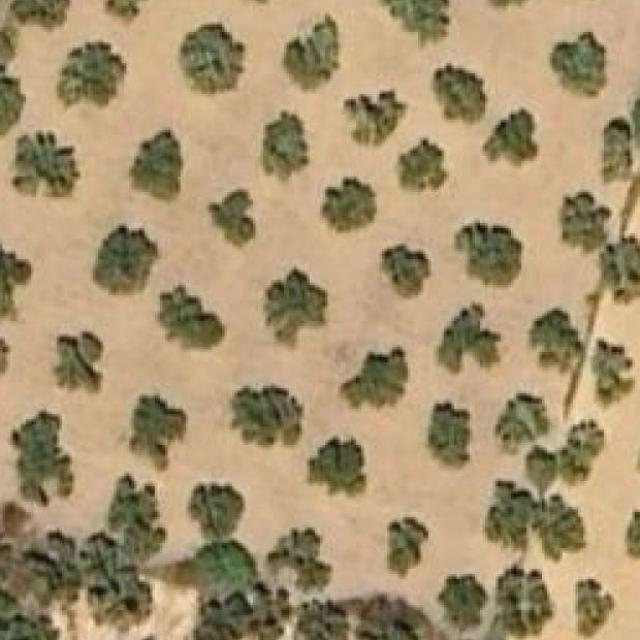Tree: (8, 412, 70, 505), (91, 223, 163, 295), (266, 267, 328, 350), (282, 13, 344, 94), (178, 24, 248, 94), (158, 283, 228, 352), (436, 303, 502, 376), (458, 218, 524, 290), (232, 383, 305, 448), (14, 130, 80, 200), (60, 41, 127, 108), (108, 491, 168, 564), (340, 92, 408, 154), (549, 29, 609, 99), (129, 396, 186, 469), (340, 347, 408, 407), (256, 109, 311, 182), (129, 130, 184, 202), (496, 569, 552, 636), (306, 438, 366, 500), (186, 481, 246, 543), (480, 108, 540, 170), (423, 398, 475, 468), (434, 63, 488, 130), (270, 524, 330, 584), (320, 176, 377, 238), (534, 310, 583, 376), (591, 338, 636, 408), (54, 332, 103, 396), (191, 543, 254, 592), (189, 594, 256, 640), (496, 393, 552, 448), (207, 189, 258, 249), (382, 0, 451, 44), (0, 236, 34, 322), (595, 238, 640, 300), (380, 244, 431, 298), (385, 517, 429, 579), (400, 140, 449, 192), (297, 594, 352, 640), (562, 192, 604, 252), (537, 499, 581, 556), (492, 483, 532, 543), (560, 424, 602, 481), (575, 579, 614, 640), (5, 0, 76, 33), (601, 120, 636, 182), (439, 579, 480, 626), (0, 63, 26, 137), (351, 615, 419, 640), (106, 0, 168, 22), (524, 450, 556, 486), (621, 509, 640, 560), (629, 86, 640, 141), (0, 331, 10, 385), (488, 0, 542, 9)
